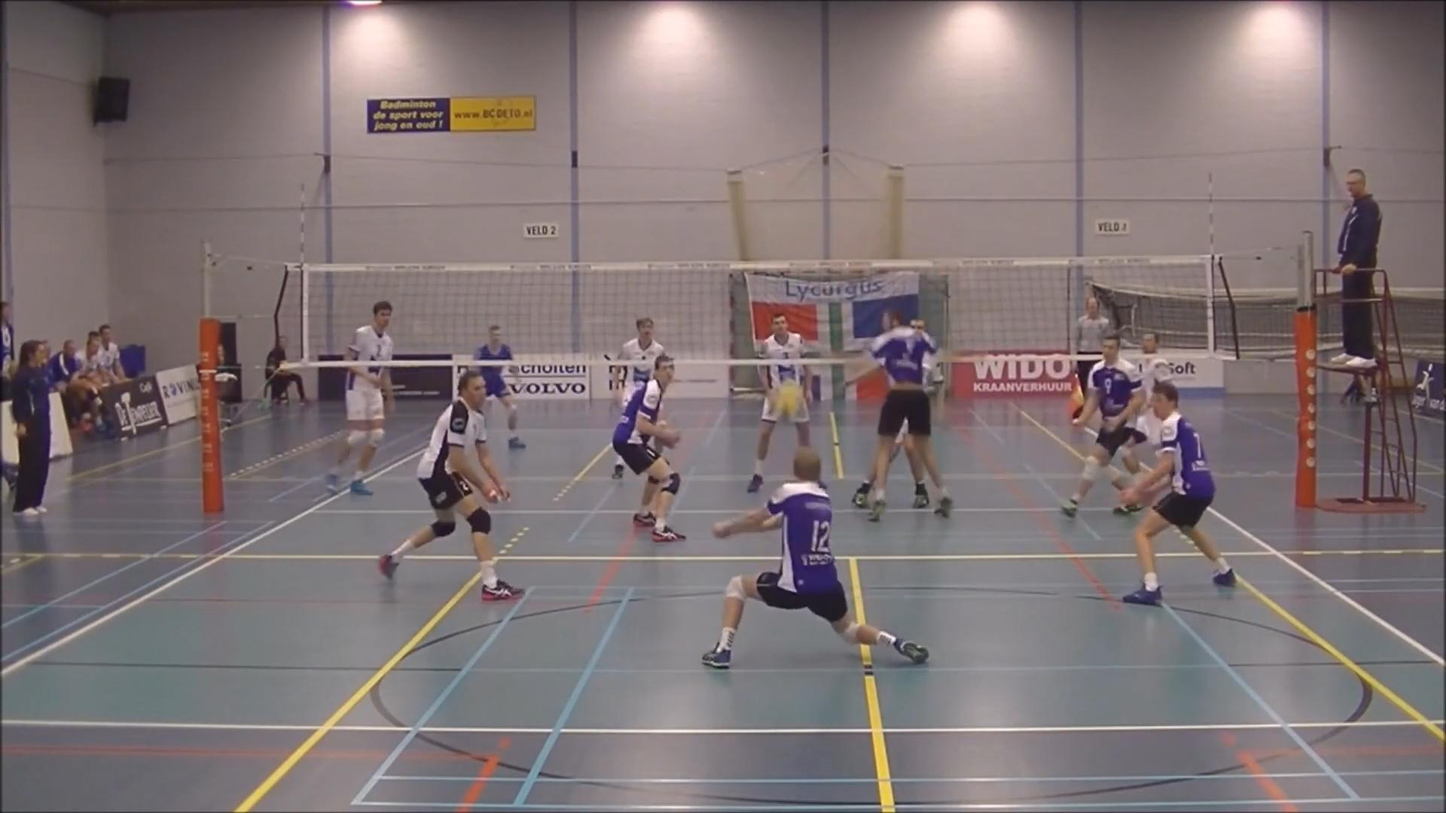Dig: (699, 452, 936, 673)
Player: (379, 370, 522, 601), (1121, 382, 1235, 604), (850, 310, 952, 521), (1061, 333, 1144, 516), (612, 355, 685, 542), (326, 301, 393, 495), (746, 314, 810, 492), (1121, 333, 1170, 478), (615, 317, 664, 408), (478, 364, 525, 449), (890, 422, 929, 508)
ball: (771, 381, 804, 424)
